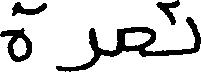X: (55, 23, 98, 71), (0, 0, 30, 66), (119, 22, 154, 61), (187, 12, 200, 58)
